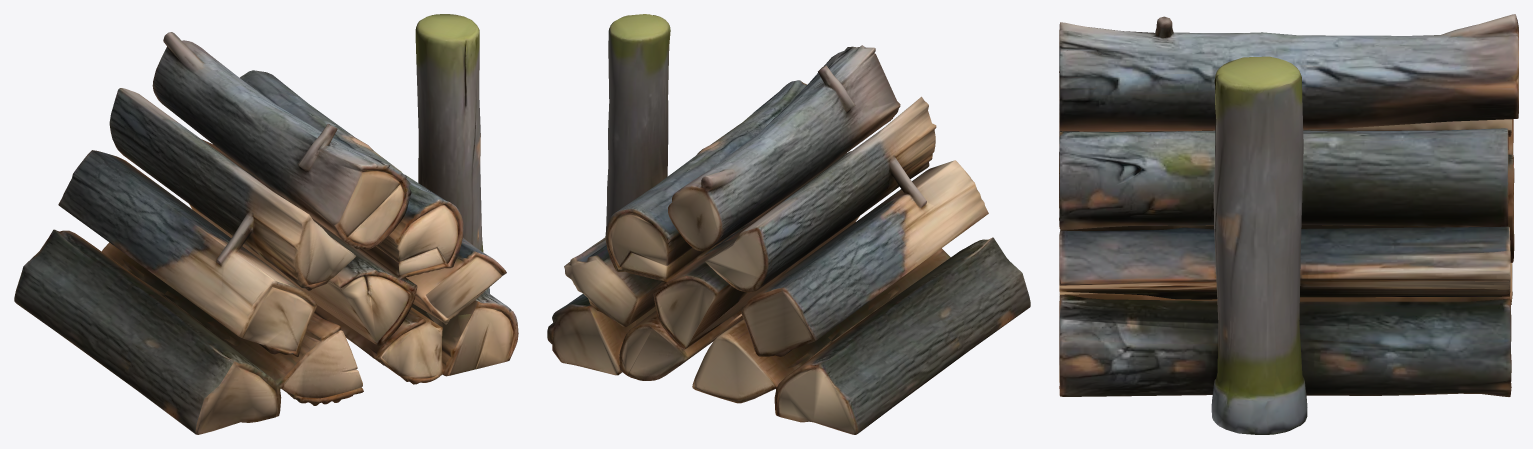
File: FireWood.opt.glb
The picture shows the model from 3 angles, left to right: view 1: azimuth 30°, elevation 25°; view 2: azimuth 150°, elevation 25°; view 3: azimuth 270°, elevation 25°; orthographic projection. The views are drawn at different scales.
Parts seen in each view (by area): view 1: node_0; view 2: node_0; view 3: node_0.
Boxes of the visible parts, box(x1,y1,x2,y2) form: node_0: box(14, 14, 518, 434); node_0: box(547, 14, 1030, 434); node_0: box(1059, 14, 1518, 434).
Bounding box in the file's own units: 0.8105 × 0.5815 × 0.7071.
1 material, 1 textured.
